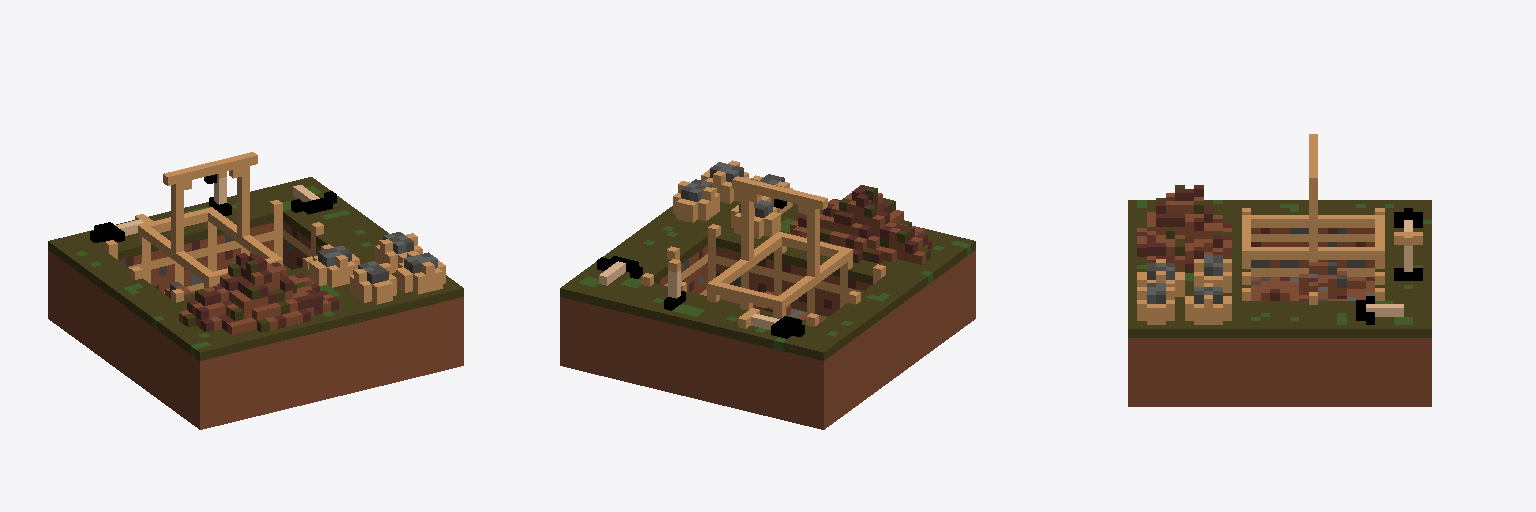
3 views of the same model, side by side, from view 1: azimuth 30°, elevation 25°; view 2: azimuth 150°, elevation 25°; view 3: azimuth 270°, elevation 25° (orthographic).
Parts seen in each view (by area): view 1: object 1; view 2: object 1; view 3: object 1.
Part boxes in pixels (x1,y1,x2,y2): object 1: (48,152,463,429); object 1: (560,160,975,429); object 1: (1128,134,1431,406).
Bounding box in the file's own units: 3.2 × 2 × 3.2.
1 materials, 1 textured.